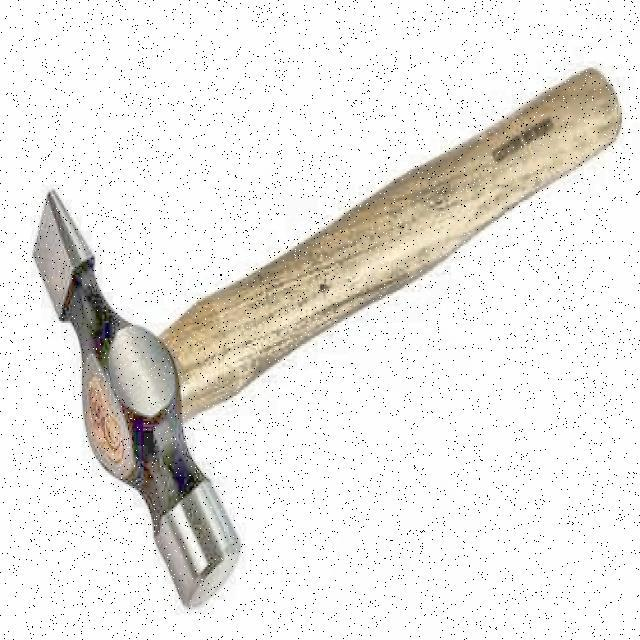hammer: (32, 67, 626, 611)
